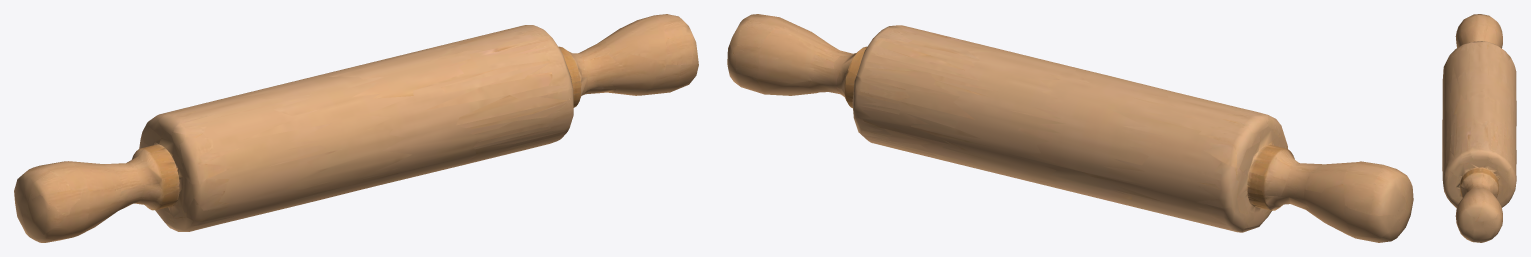
Rendered from pin.glb.
3 views of the same model, side by side, from view 1: azimuth 30°, elevation 25°; view 2: azimuth 150°, elevation 25°; view 3: azimuth 270°, elevation 25° (orthographic). The views are drawn at different scales.
Size of the model in its own units: 1.9 by 0.3011 by 0.3046.
1 material, 1 textured.
